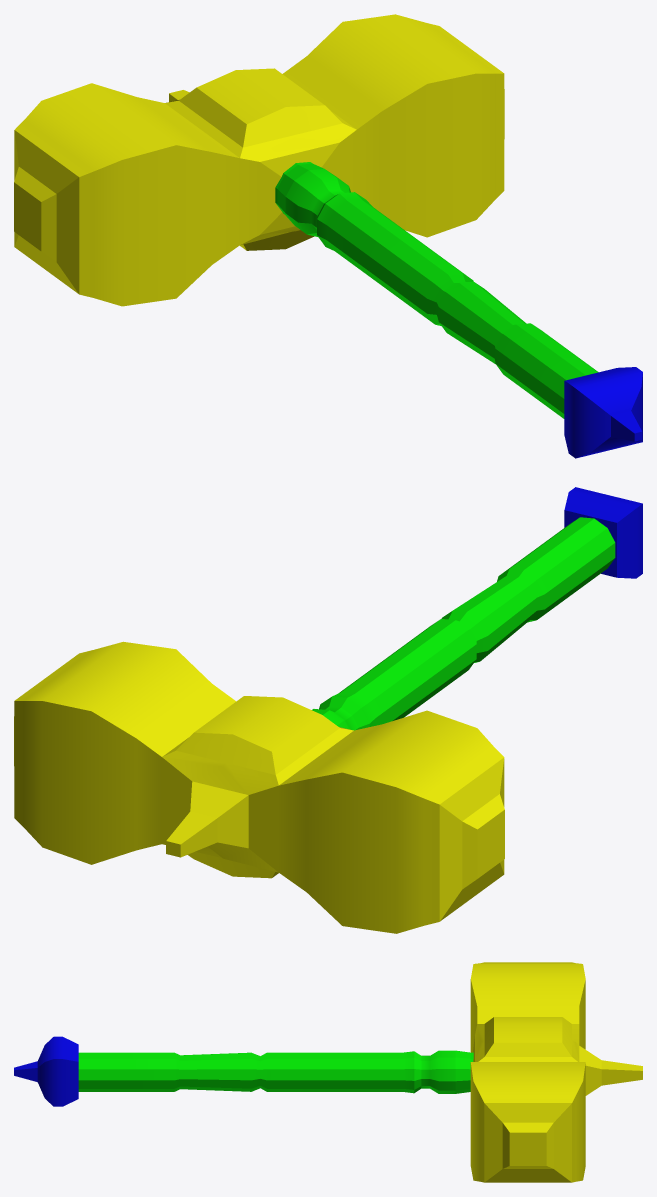
File: hammer.fbx
The picture shows the model from 3 angles, top to bottom: view 1: azimuth 30°, elevation 25°; view 2: azimuth 150°, elevation 25°; view 3: azimuth 270°, elevation 25°; orthographic projection. The views are drawn at different scales.
Visible parts, largest first — view 1: polySurface2; view 2: polySurface2; view 3: polySurface2.
Boxes of the visible parts, x1,y1,x2,y2 form: polySurface2: [14, 14, 642, 458]; polySurface2: [14, 487, 642, 933]; polySurface2: [14, 962, 642, 1182].
Size of the model in its own units: 32.48 by 10.29 by 56.27.
